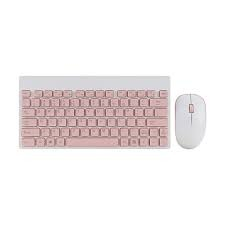keyboard: (16, 81, 173, 152)
mouse: (171, 92, 206, 153)
